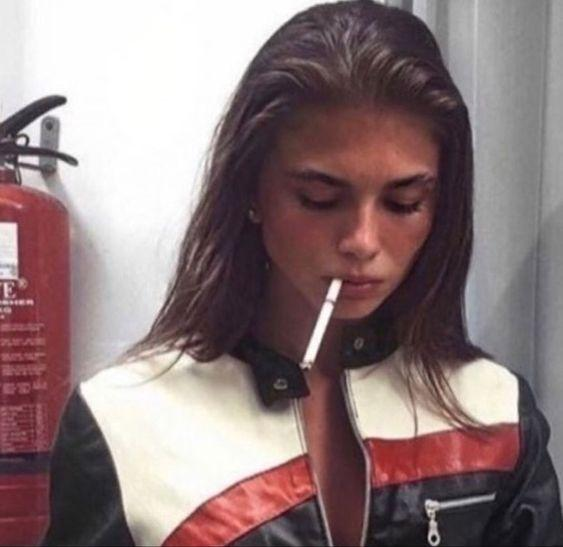cigarette: (298, 276, 344, 370)
